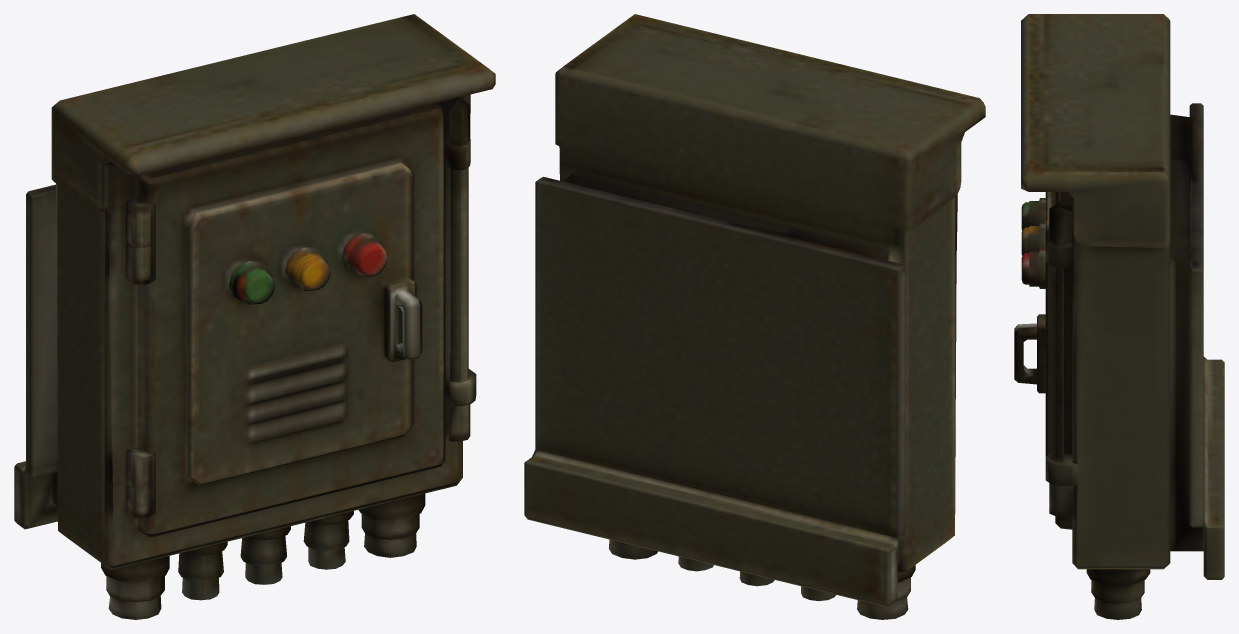
Rendered from electrical_control_panel_square.fbx.
3 renders of one model, left to right at view 1: azimuth 30°, elevation 25°; view 2: azimuth 150°, elevation 25°; view 3: azimuth 270°, elevation 25°, orthographic. The views are drawn at different scales.
Parts seen in each view (by area): view 1: electrical_control_panel_square; view 2: electrical_control_panel_square; view 3: electrical_control_panel_square.
Part boxes in pixels (x1,y1,x2,y2): electrical_control_panel_square: (14, 14, 495, 619); electrical_control_panel_square: (524, 14, 985, 619); electrical_control_panel_square: (1014, 14, 1224, 619).
Size of the model in its own units: 87.8 by 112 by 46.53.
Materials: 1 (1 with a texture image).
